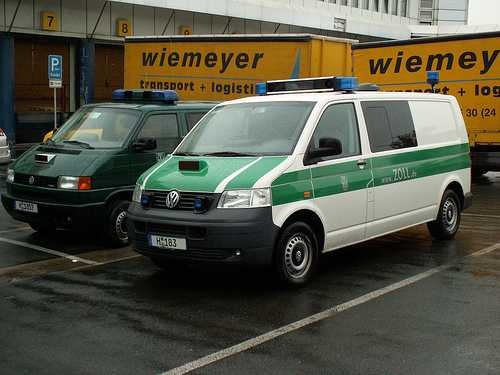Police Van: (138, 84, 493, 280)
